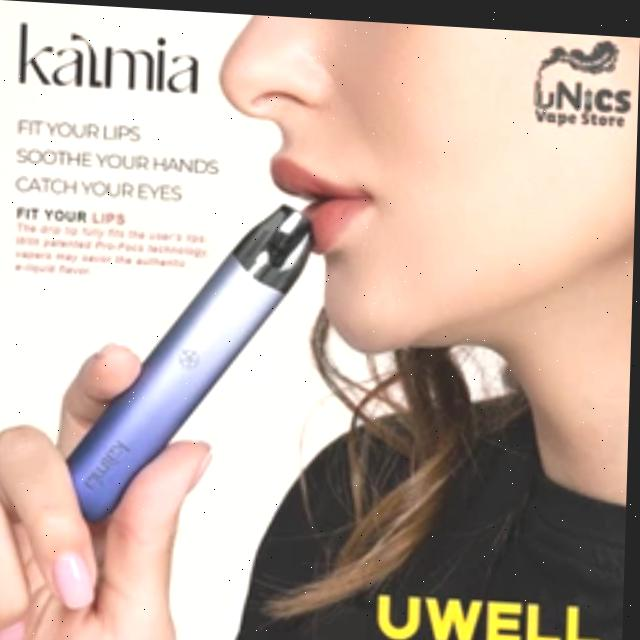vape: (70, 191, 316, 530)
